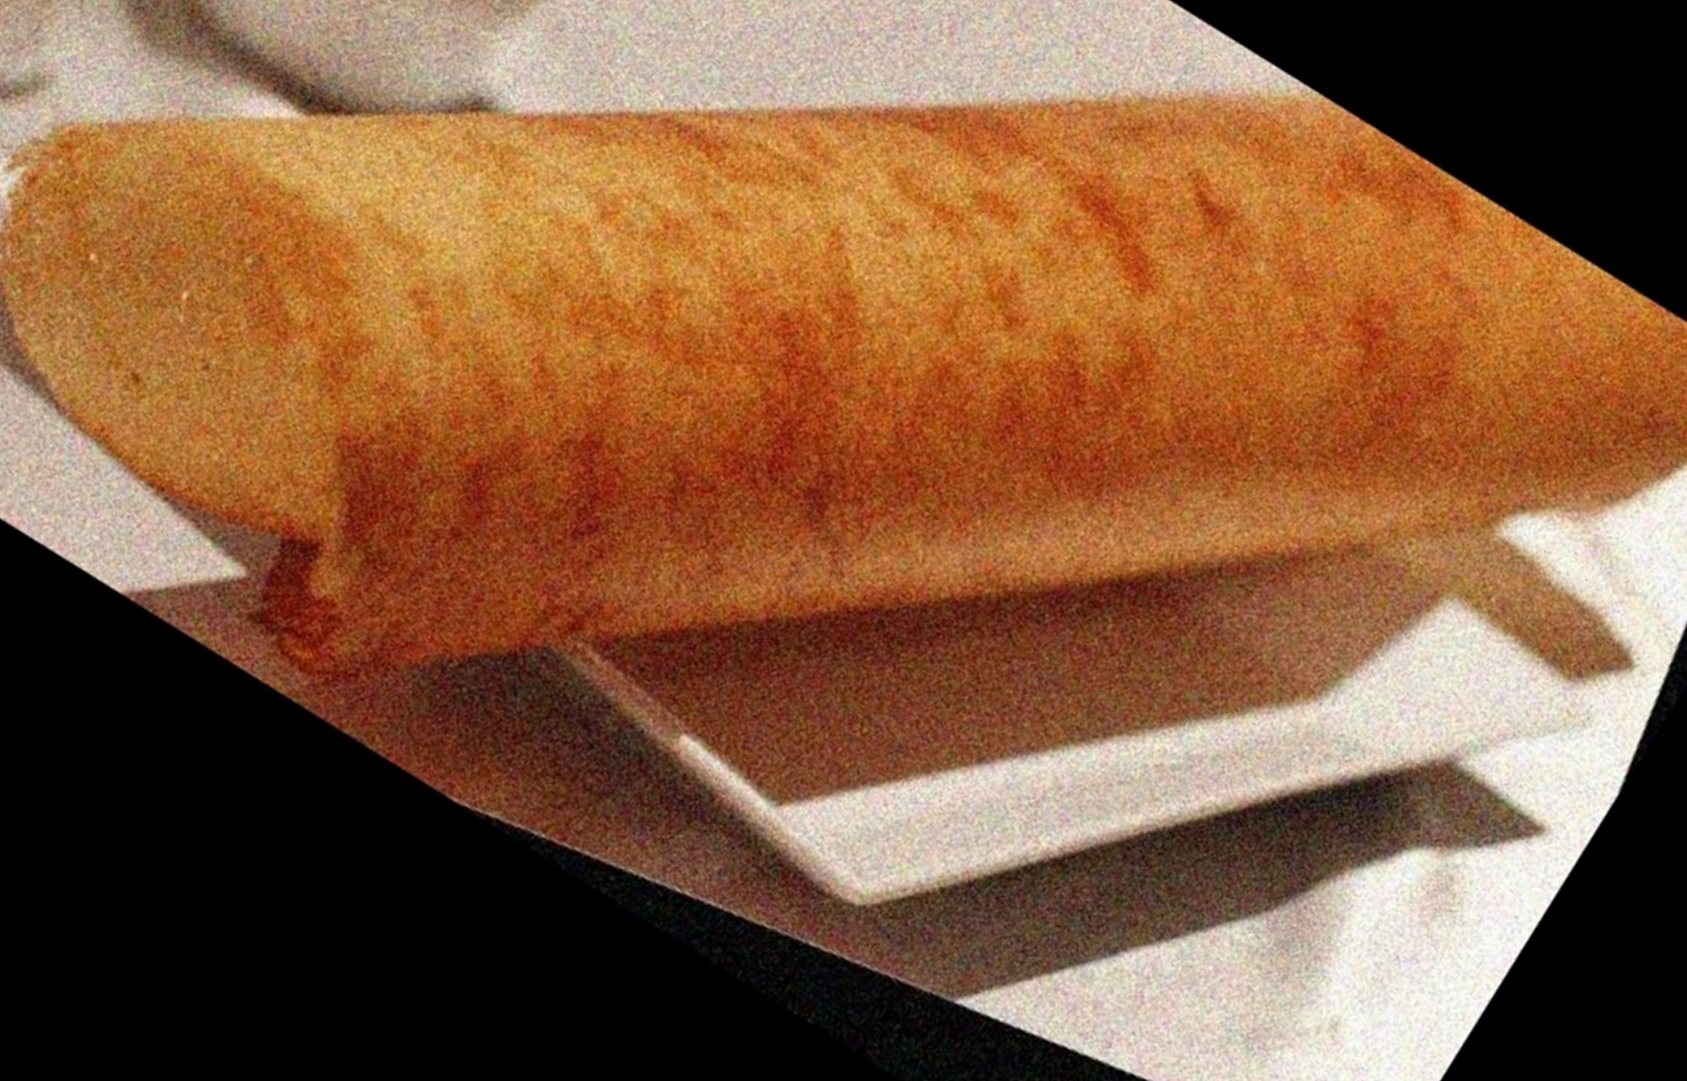dosa: (4, 93, 1687, 673)
